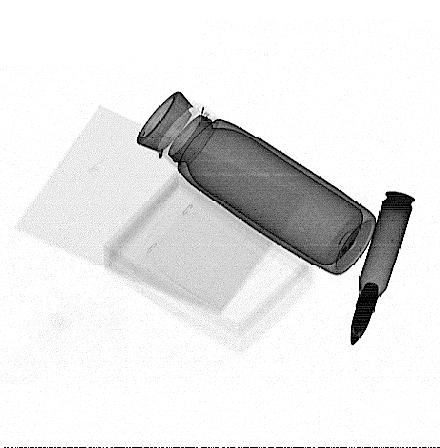Bullet: (349, 190, 416, 347)
